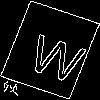W: (25, 25, 91, 85)
